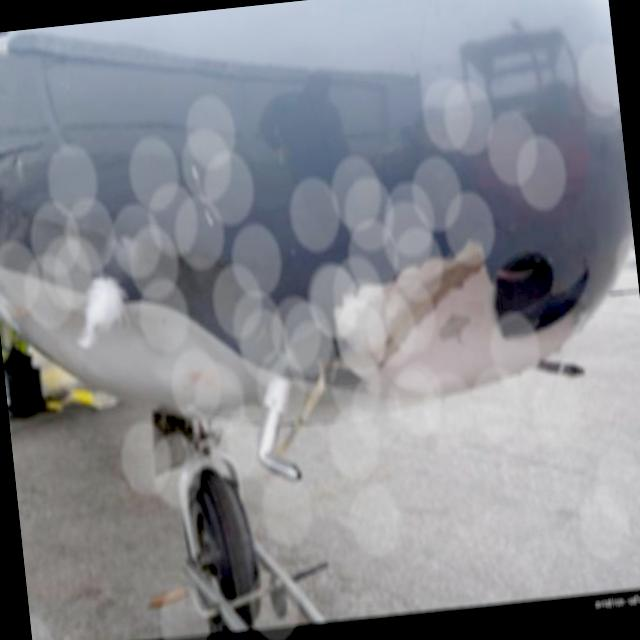crack: (474, 213, 521, 245)
dent: (135, 303, 243, 410)
